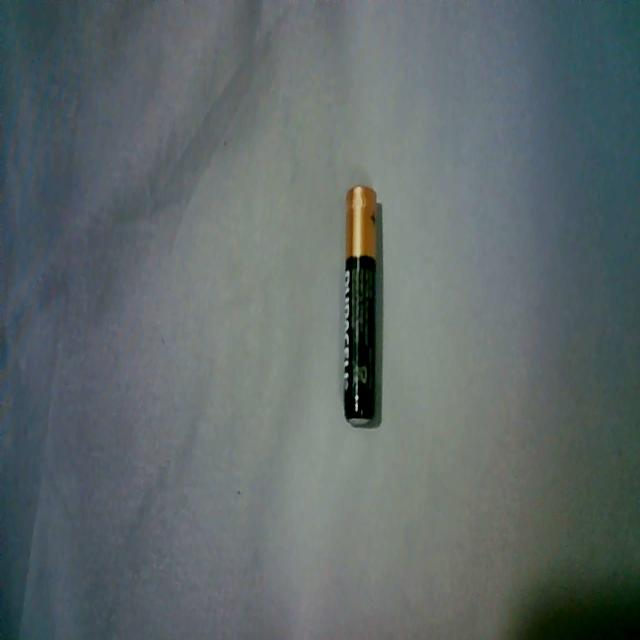AAA: (338, 178, 384, 430)
